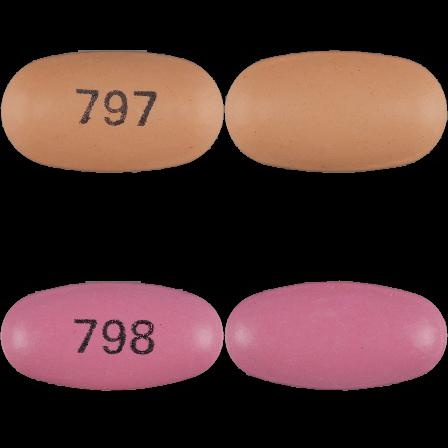62756-797: (0, 0, 224, 224)
